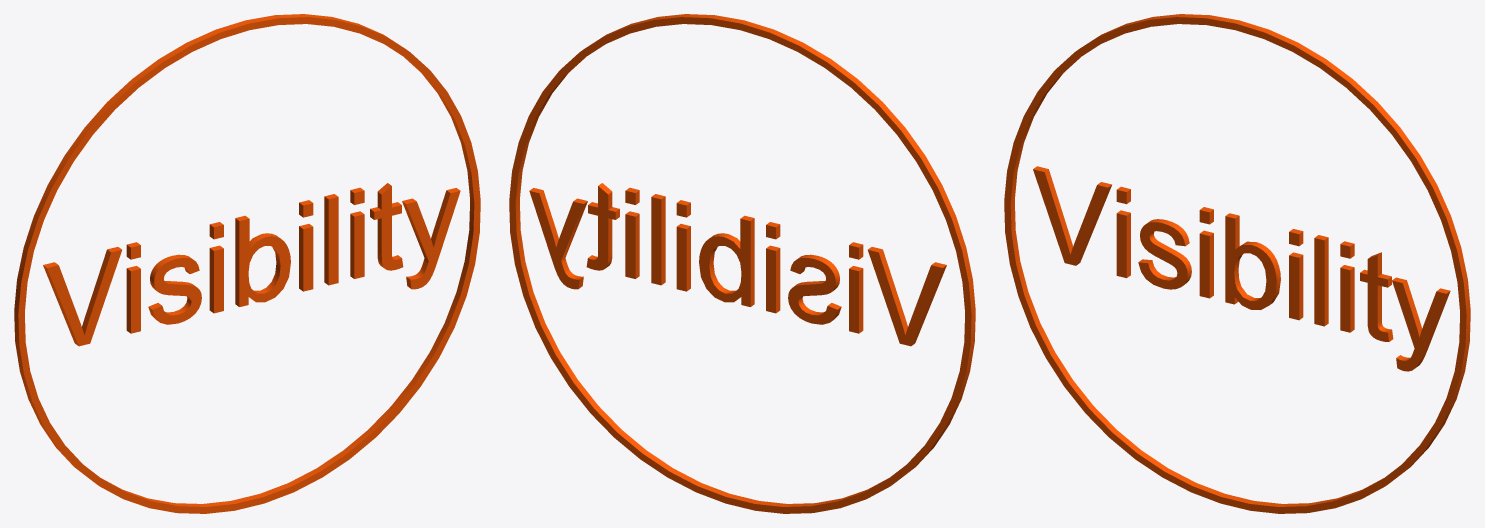
Rendered from Visibility.obj.
The picture shows the model from 3 angles, left to right: view 1: azimuth 30°, elevation 25°; view 2: azimuth 150°, elevation 25°; view 3: azimuth 330°, elevation 25°; orthographic projection.
Visible parts, largest first — view 1: IndexedFaceSet, IndexedFaceSet__1; view 2: IndexedFaceSet, IndexedFaceSet__1; view 3: IndexedFaceSet, IndexedFaceSet__1.
Part boxes in pixels (x1,y1,x2,y2): IndexedFaceSet: (43,183,460,346); IndexedFaceSet__1: (14,14,480,513); IndexedFaceSet: (529,183,946,346); IndexedFaceSet__1: (509,14,975,513); IndexedFaceSet: (1033,166,1450,371); IndexedFaceSet__1: (1004,14,1470,513).
Size of the model in its own units: 6.36 by 6.36 by 0.1.
